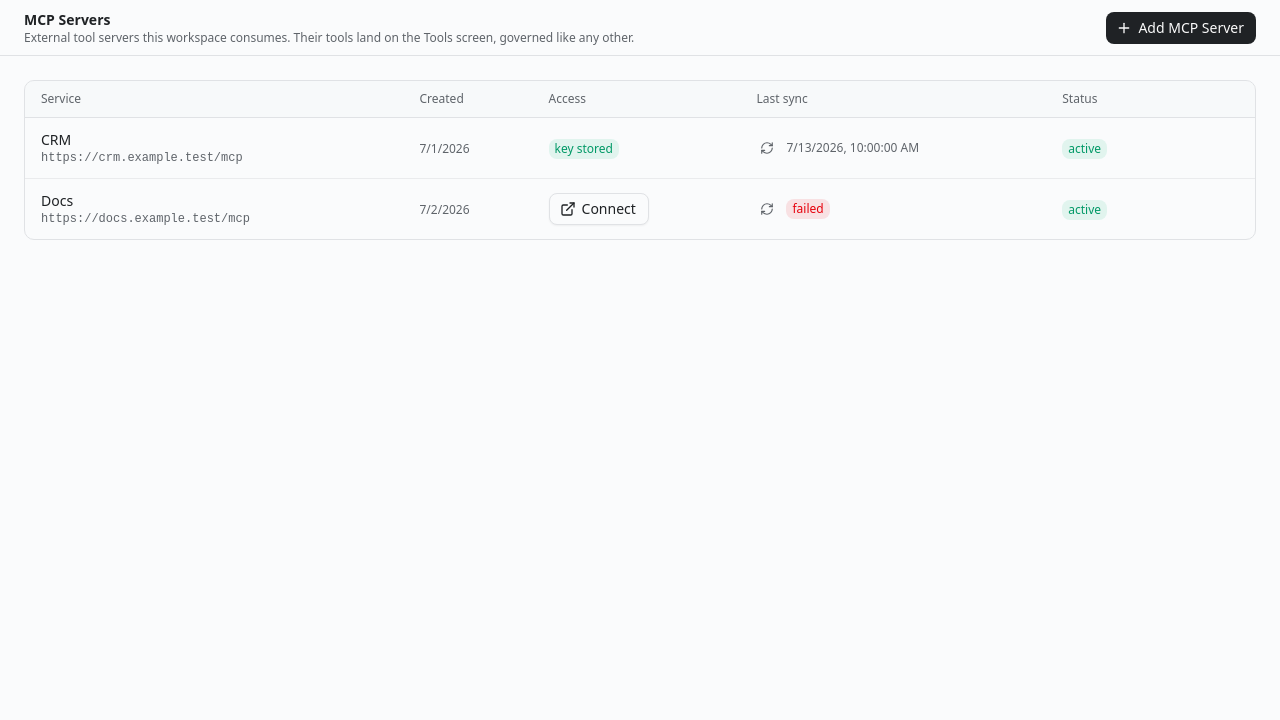
Test: the mcp servers screen › says what a sync changed, in words
Expected: the text "CRM" is shown, [41, 130, 71, 149]
Click the button named "Sync CRM". click: (768, 148)
box: [756, 137, 778, 159]
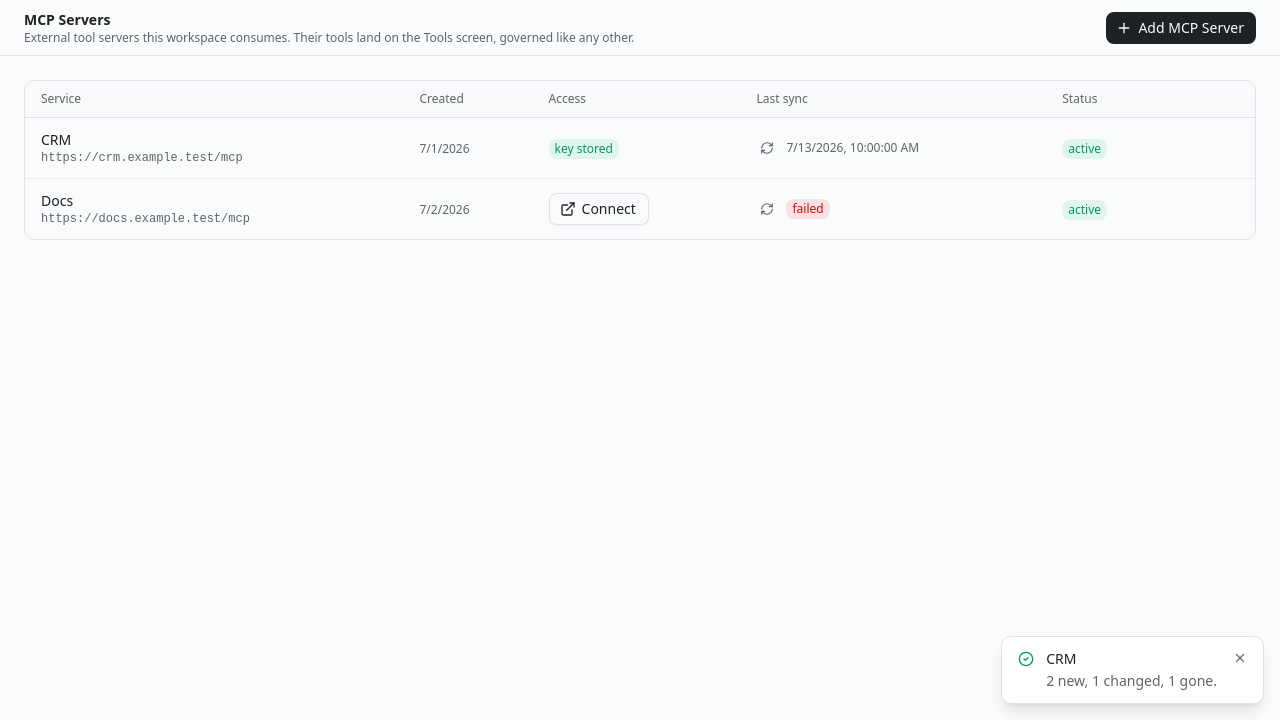
Result: the text "2 new, 1 changed, 1 gone." is shown at [1046, 671, 1217, 691]
